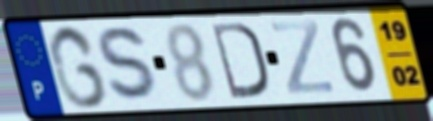6: (330, 16, 379, 95)
8: (163, 20, 218, 105)
D: (208, 20, 271, 101)
G: (45, 22, 111, 111)
S: (95, 24, 165, 106)
Z: (268, 18, 337, 97)
